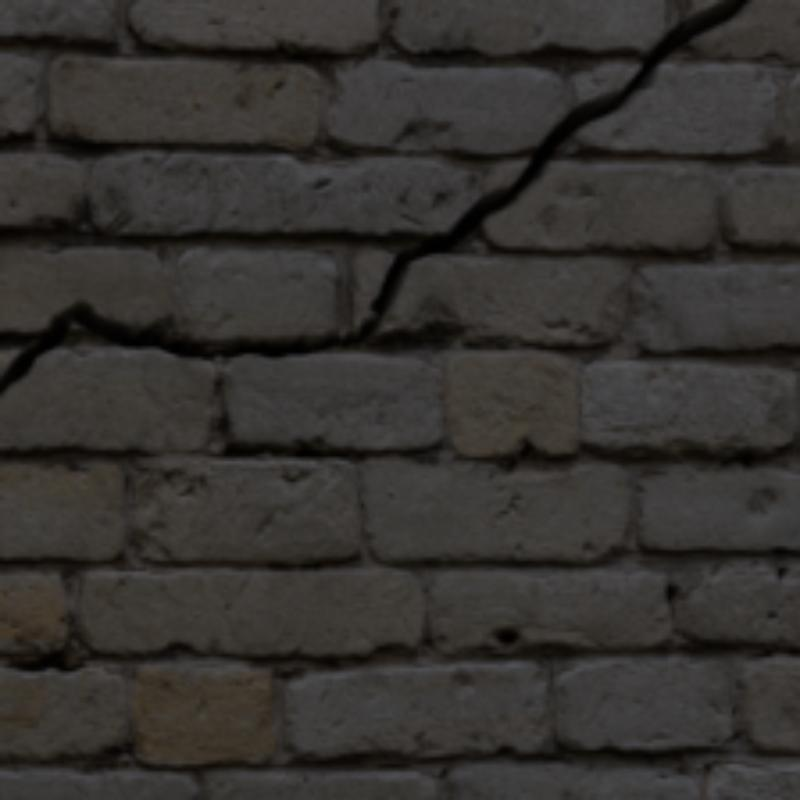pothole: (0, 0, 750, 393)
